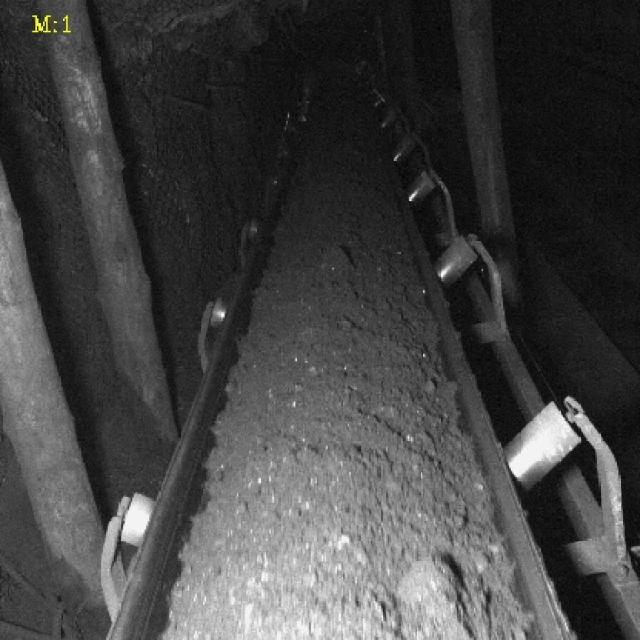large_sized_coal: (397, 538, 477, 624)
